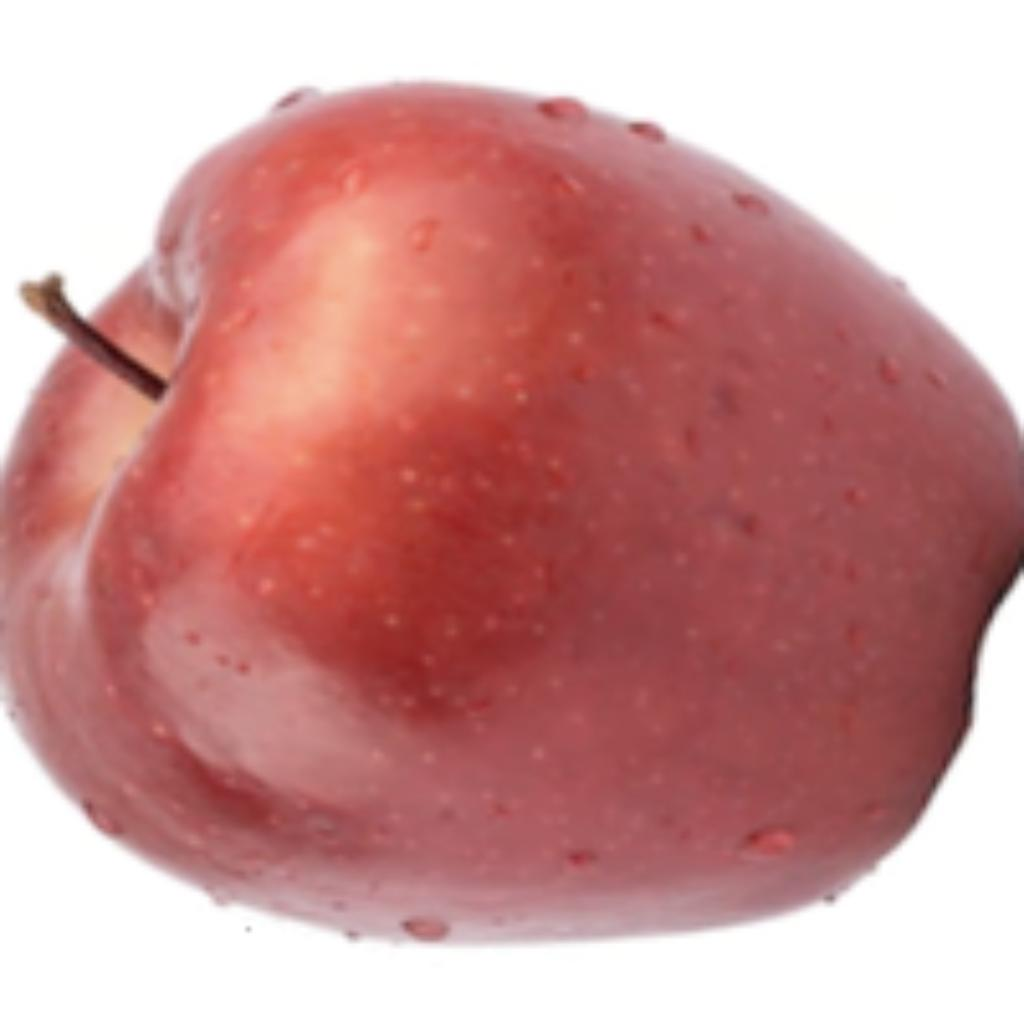apple: (0, 72, 1019, 952)
